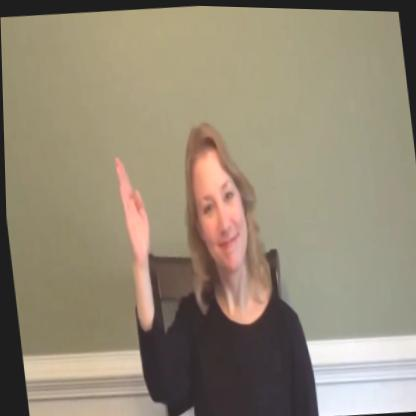Hello: (83, 89, 293, 350)
